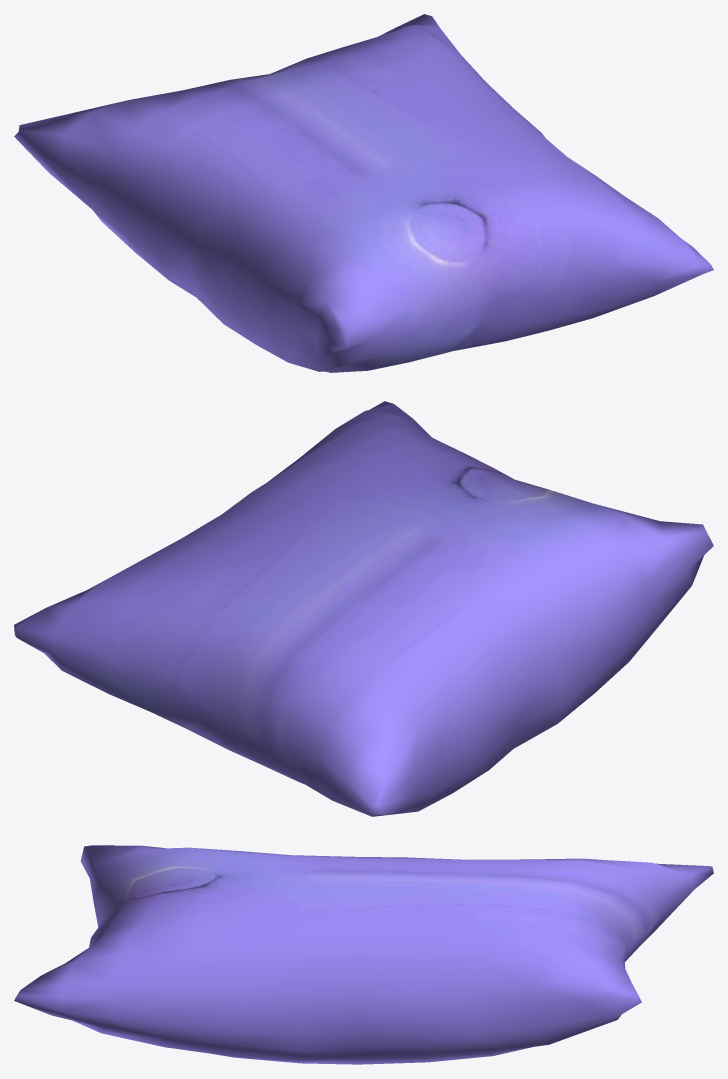
File: Pillow.glb
3 views of the same model, one above another, from view 1: azimuth 30°, elevation 25°; view 2: azimuth 150°, elevation 25°; view 3: azimuth 270°, elevation 25° (orthographic). The views are drawn at different scales.
Parts seen in each view (by area): view 1: Pillow; view 2: Pillow; view 3: Pillow.
Part boxes in pixels (<box>): Pillow: <box>14,14,713,372</box>; Pillow: <box>14,401,713,816</box>; Pillow: <box>14,845,713,1064</box>.
Size of the model in its own units: 5.4 by 2.27 by 8.71.
Materials: 1 (1 with a texture image).
